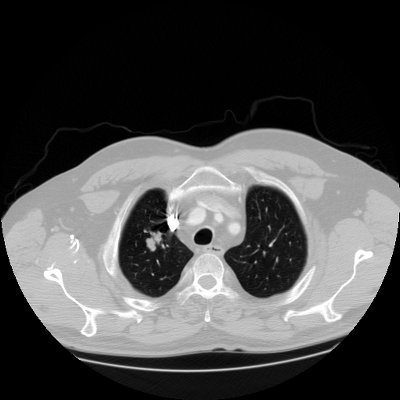nodule: (144, 232, 162, 250)
